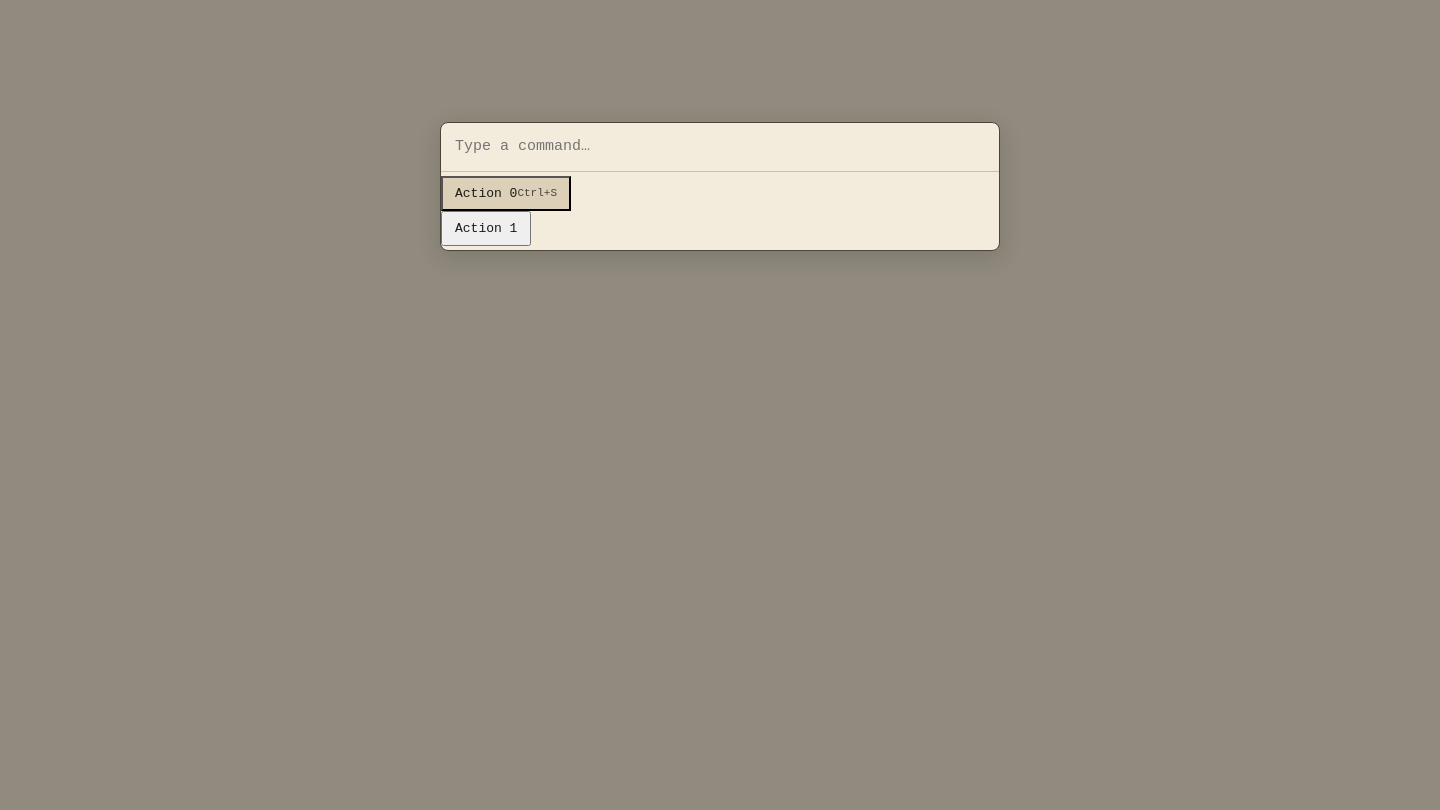
it: CommandPalette › shows "No matching commands" when nothing matches
Type "zzz" into the field. click: (720, 146)
box: [453,136,987,156]
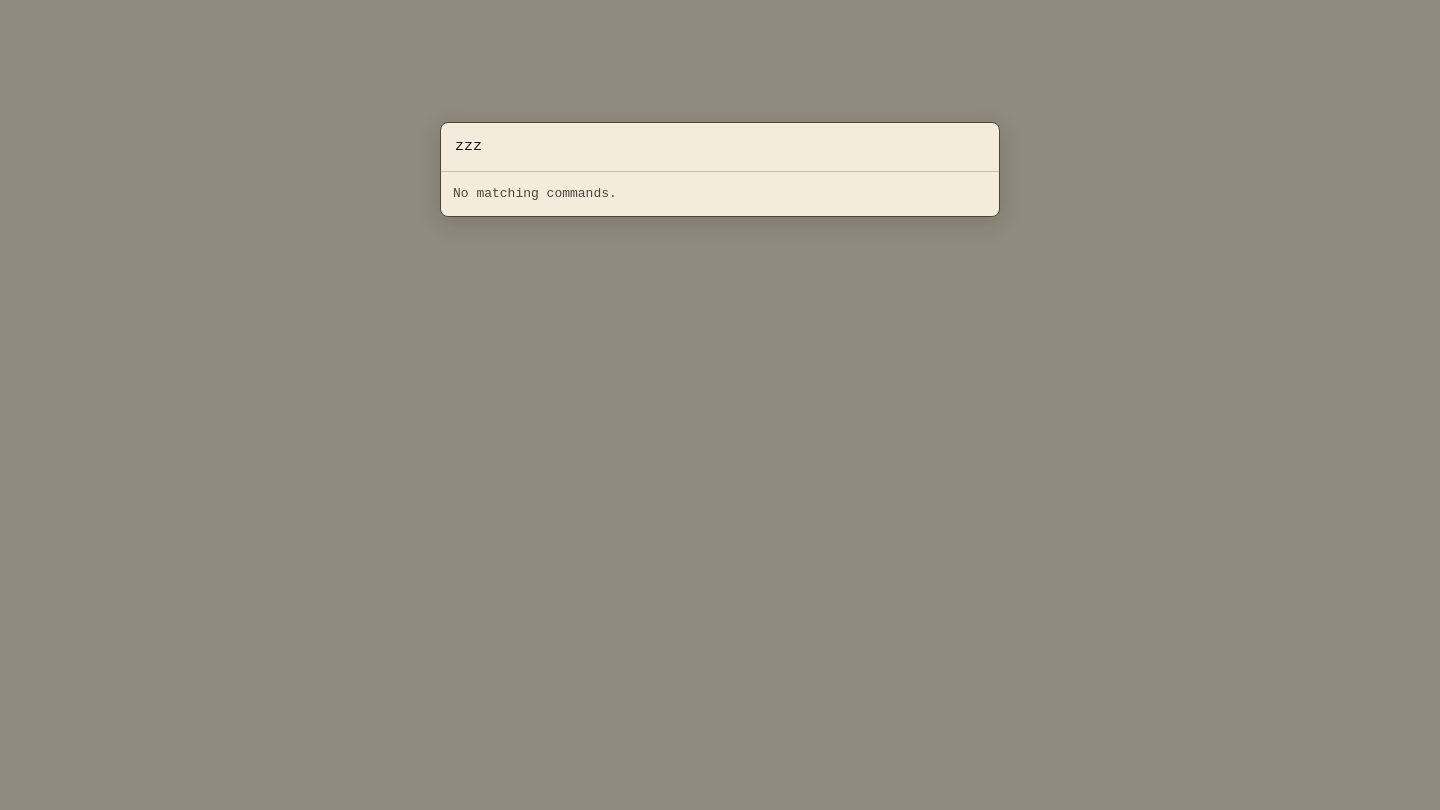
Expected: the text "No matching commands." is shown, [453,186,617,200]
